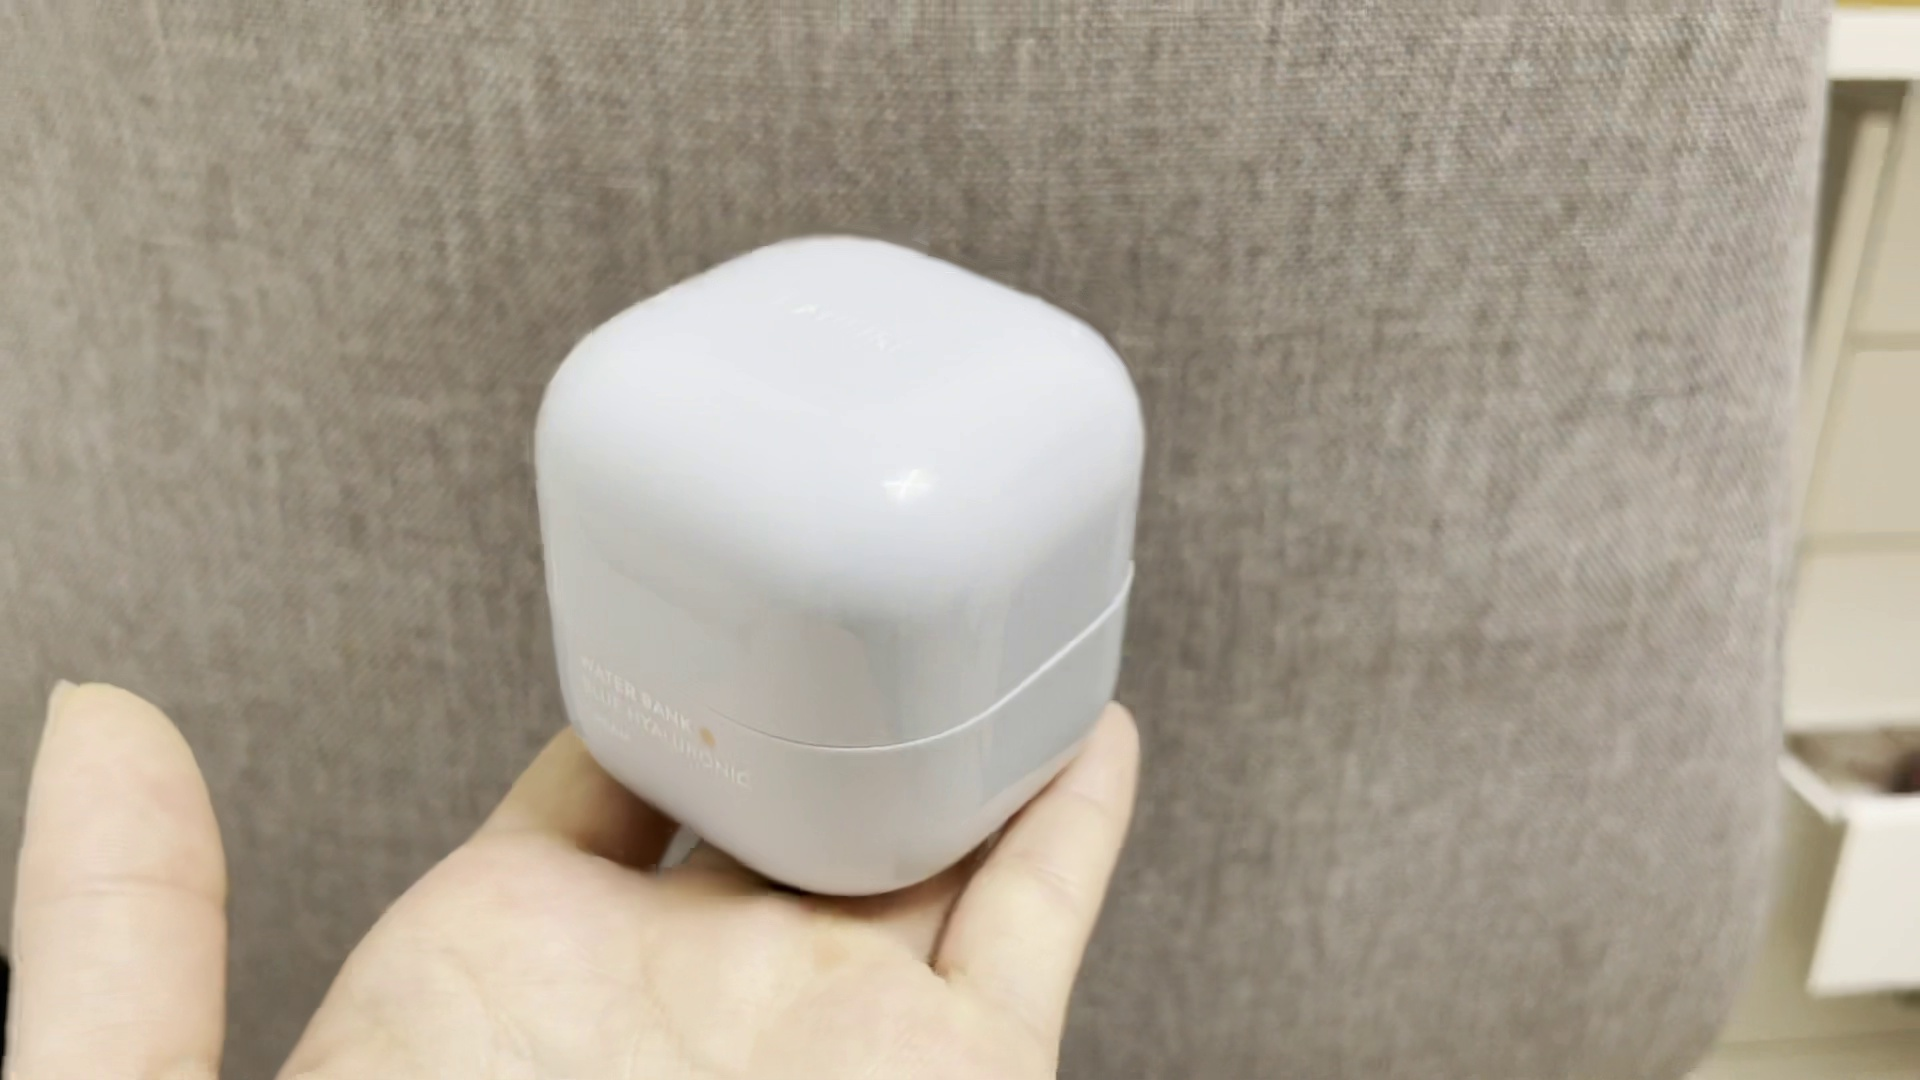cream: (534, 232, 1149, 902)
